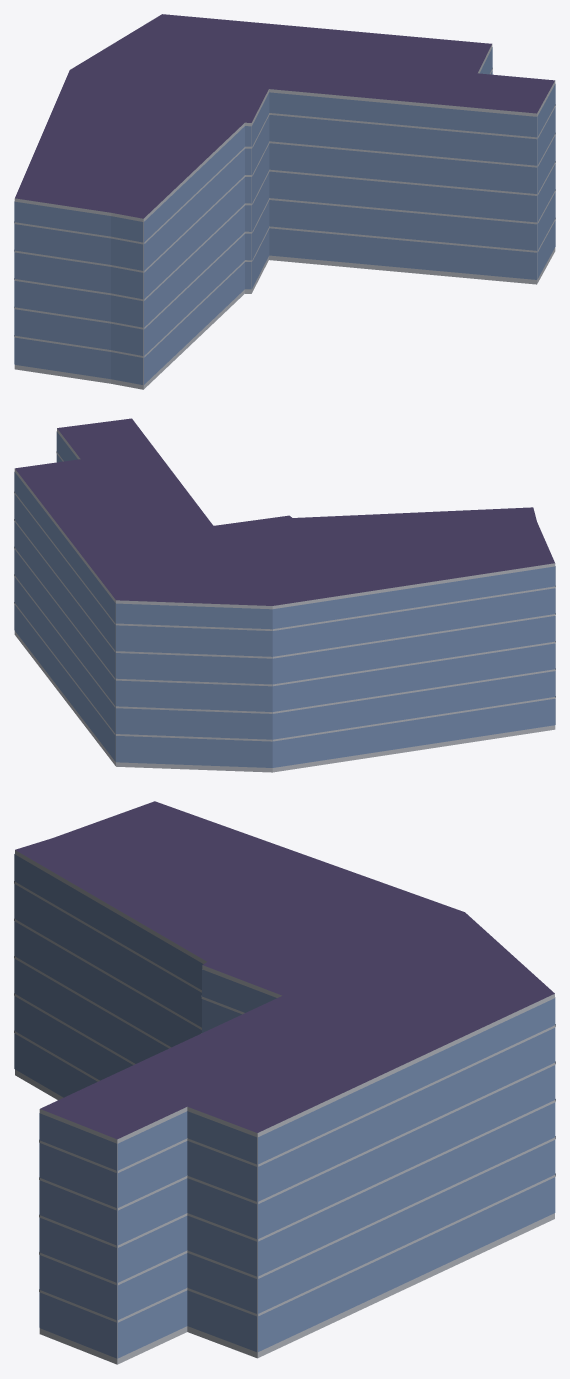
Rendered from core-western-interdisciplinary-research-build-day.glb.
3 renders of one model, top to bottom at view 1: azimuth 30°, elevation 25°; view 2: azimuth 150°, elevation 25°; view 3: azimuth 270°, elevation 25°, orthographic. The views are drawn at different scales.
Visible parts, largest first — view 1: campus/core-western-interdisciplinary-research-build-day-0; view 2: campus/core-western-interdisciplinary-research-build-day-0; view 3: campus/core-western-interdisciplinary-research-build-day-0.
Boxes of the visible parts, box(x1,y1,x2,y2) form: campus/core-western-interdisciplinary-research-build-day-0: box(14, 14, 555, 389); campus/core-western-interdisciplinary-research-build-day-0: box(14, 418, 555, 772); campus/core-western-interdisciplinary-research-build-day-0: box(14, 801, 555, 1364).
Size of the model in its own units: 70 by 21.7 by 47.31.
